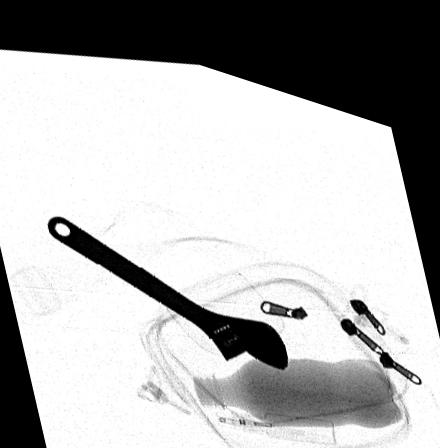Wrench: (44, 210, 287, 352)
